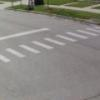crosswalks: (1, 25, 100, 65)
